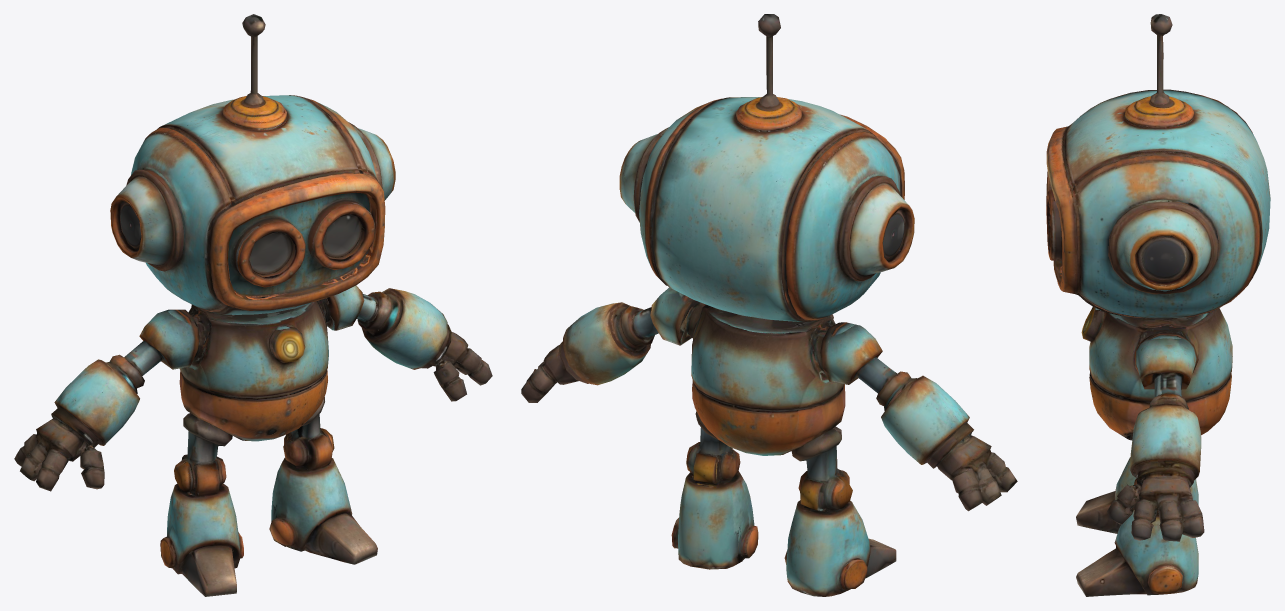
Rendered from _1008061333_texture.fbx.
3 renders of one model, left to right at view 1: azimuth 30°, elevation 25°; view 2: azimuth 150°, elevation 25°; view 3: azimuth 270°, elevation 25°, orthographic. The views are drawn at different scales.
Visible parts, largest first — view 1: Mesh1.0; view 2: Mesh1.0; view 3: Mesh1.0.
Part boxes in pixels (x1,y1,x2,y2): Mesh1.0: (14, 14, 492, 596); Mesh1.0: (521, 14, 1017, 596); Mesh1.0: (1046, 14, 1270, 596).
Bounding box in the file's own units: 179 × 200 × 75.43.
Materials: 1 (1 with a texture image).
